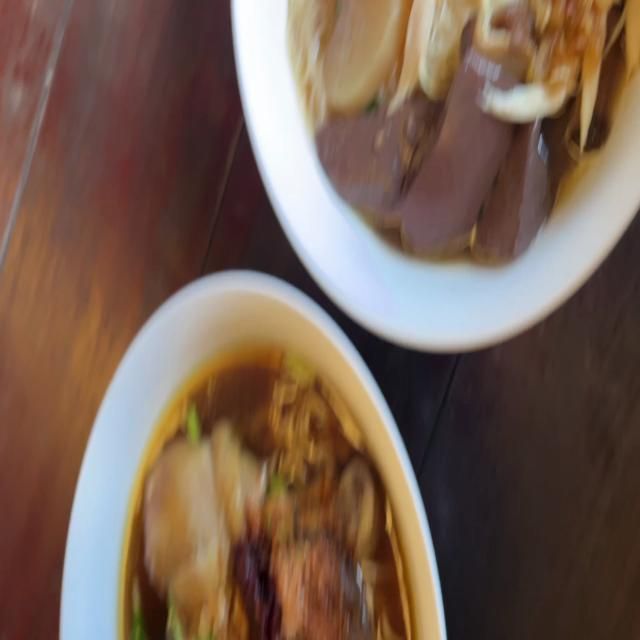noodle: (244, 0, 640, 266), (112, 332, 411, 640)
